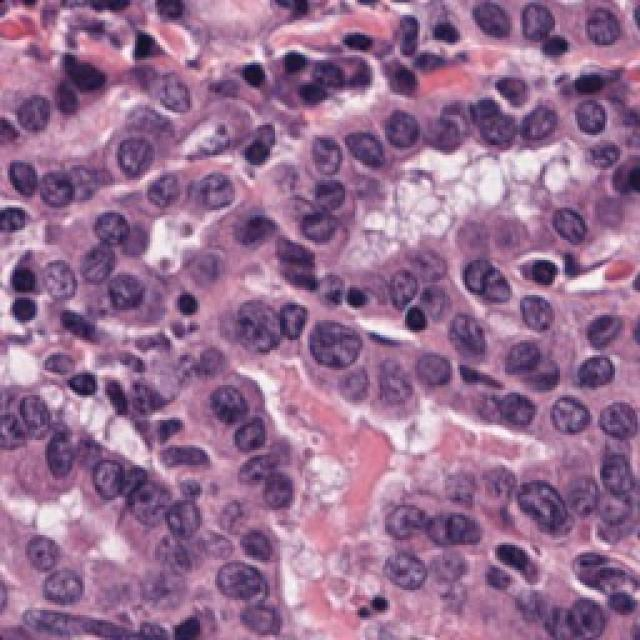abnormal: (297, 302, 378, 398), (497, 462, 580, 553), (200, 543, 288, 622), (180, 148, 255, 232), (23, 535, 100, 615), (525, 197, 610, 265), (150, 482, 223, 560), (450, 235, 515, 320), (21, 150, 91, 227), (80, 438, 135, 535), (185, 361, 253, 436), (107, 124, 172, 199), (503, 0, 570, 65), (535, 382, 597, 446), (65, 227, 123, 295), (394, 348, 458, 408), (285, 198, 348, 257), (460, 3, 528, 55), (572, 340, 623, 405), (377, 254, 428, 318)
